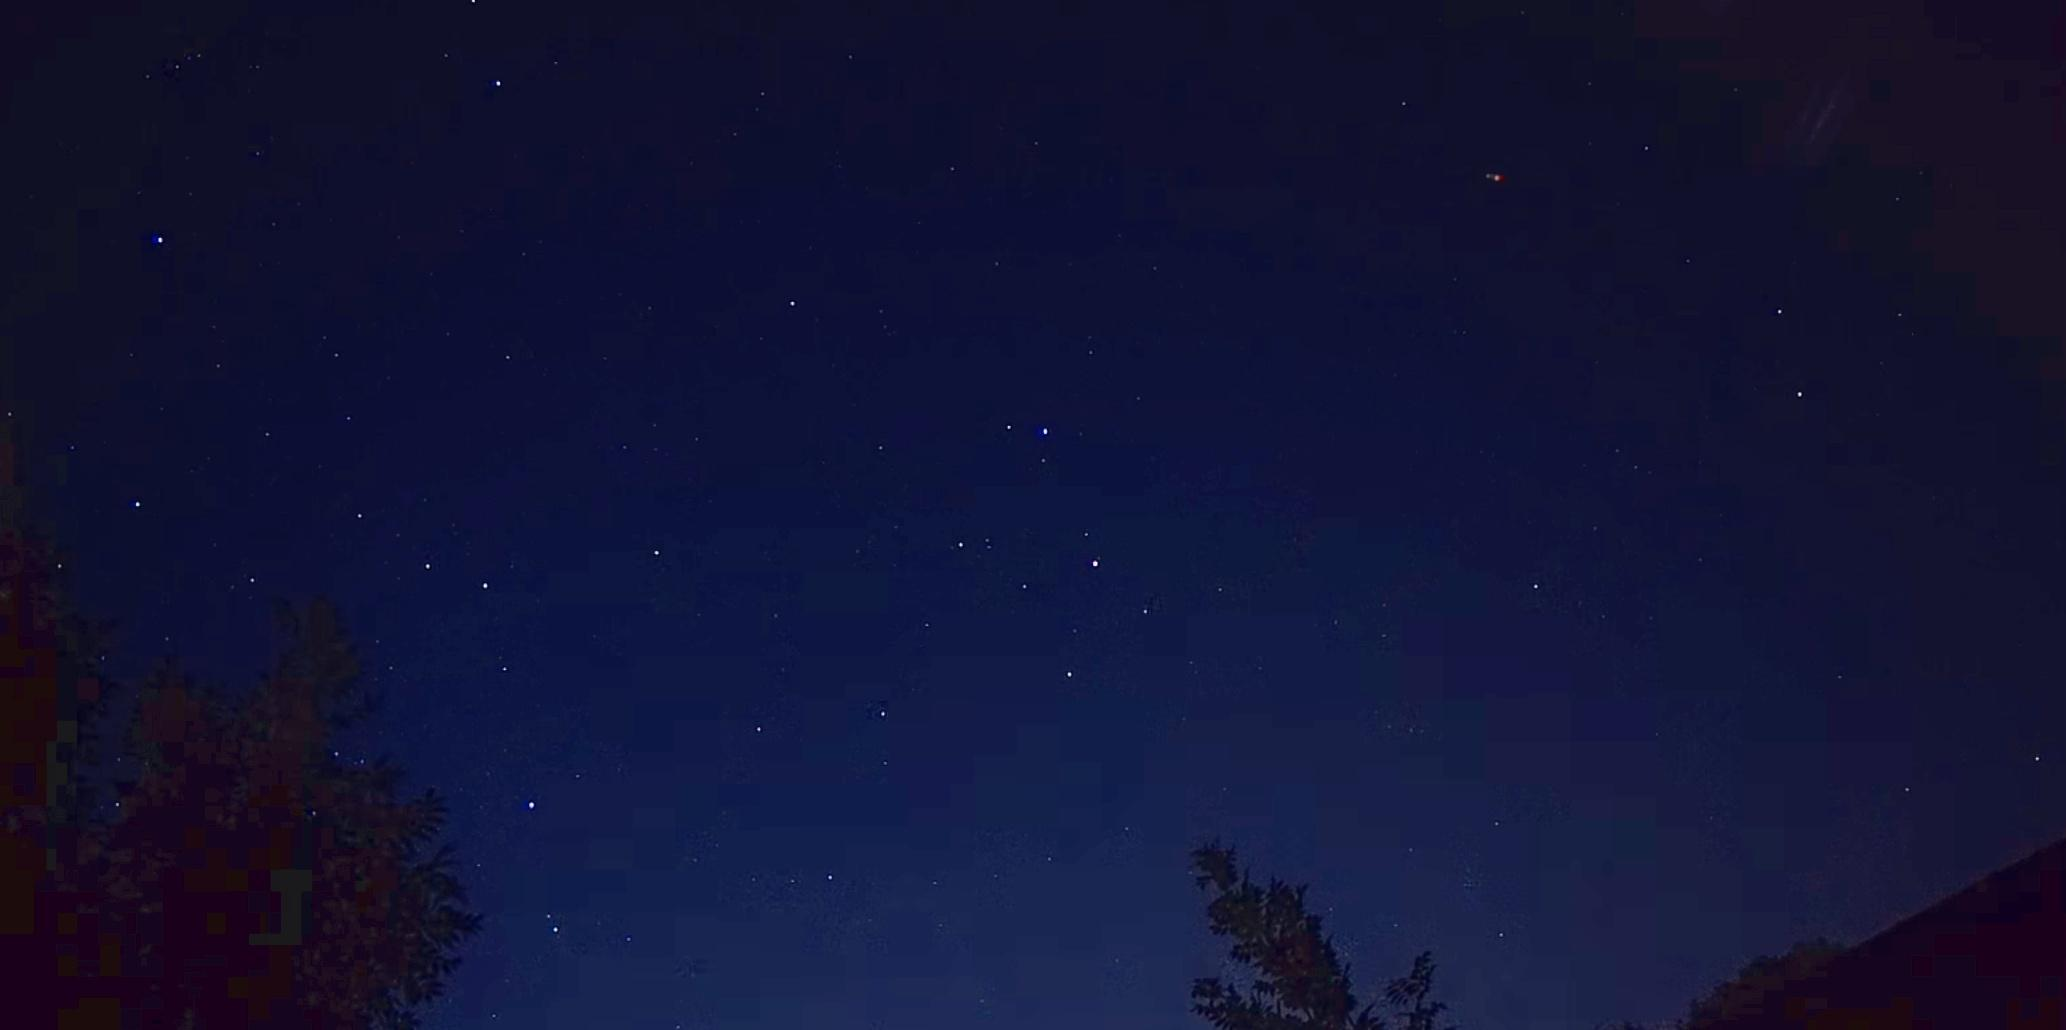Plane: (1466, 165, 1526, 188)
